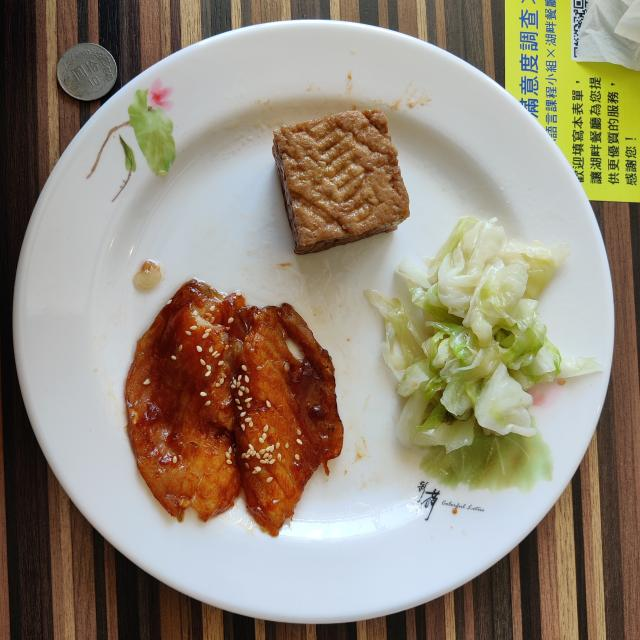Kabayaki sea bream fillet: (125, 280, 342, 536)
cabbage: (370, 218, 601, 452)
coin: (58, 42, 118, 101)
egg tofu: (272, 109, 410, 254)
